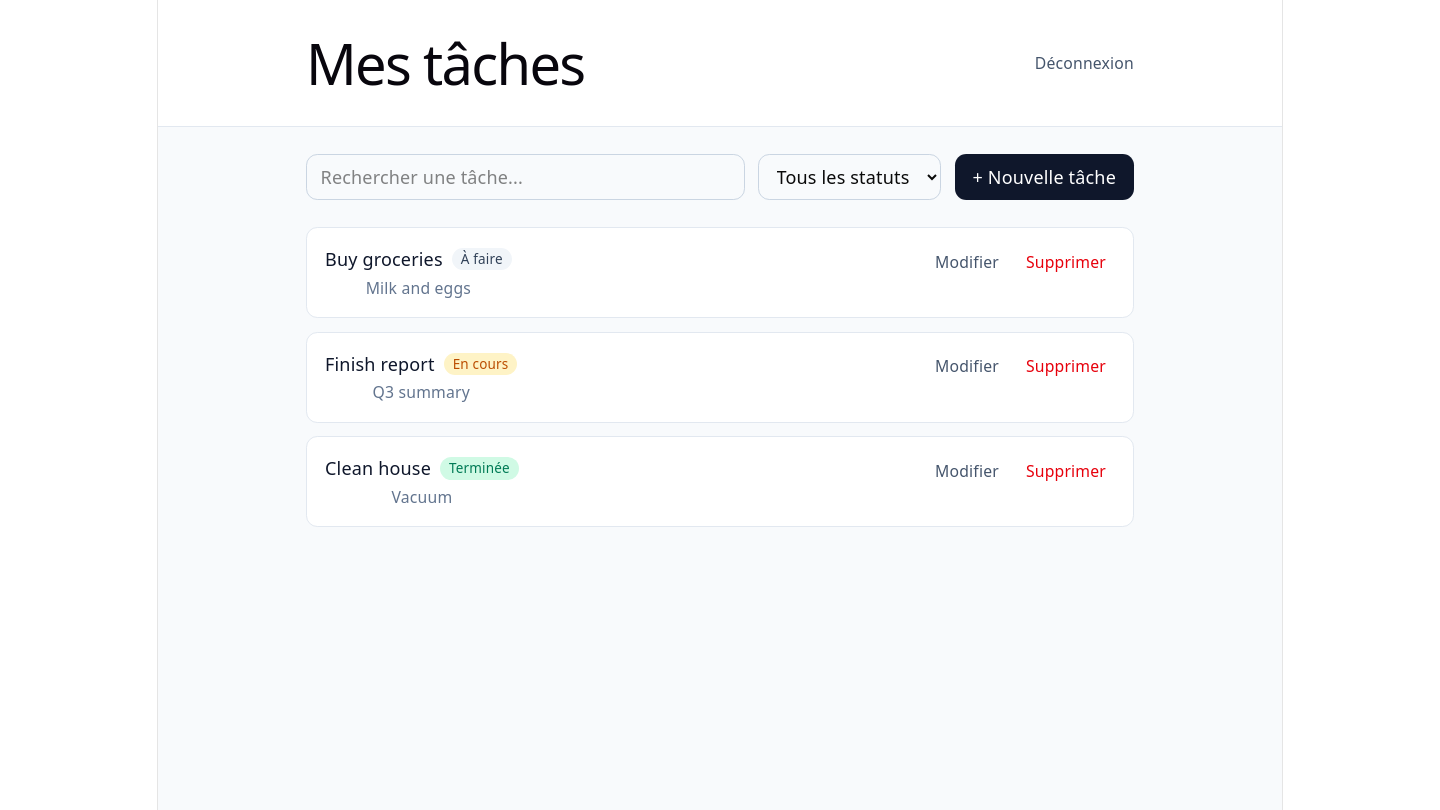
DashboardPage › updates an existing task
Expected: the heading "Buy groceries" is shown, [325, 246, 443, 272]
Click the button "Modifier" in the row of "À faire" at (967, 262), box [926, 246, 1008, 278]
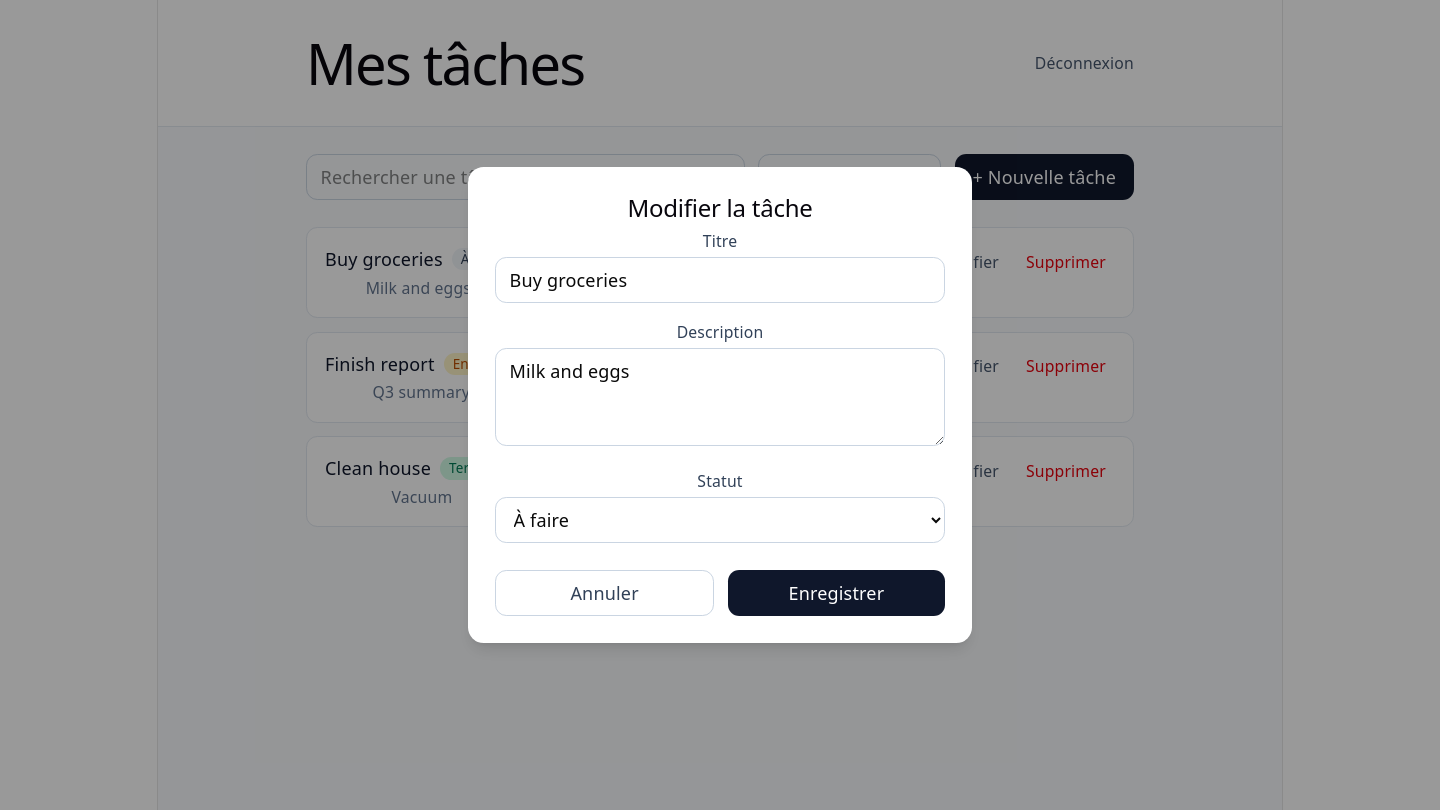
Replace the text in the field labelled "Titre" with "Updated groceries" at (720, 280), box [495, 257, 945, 303]
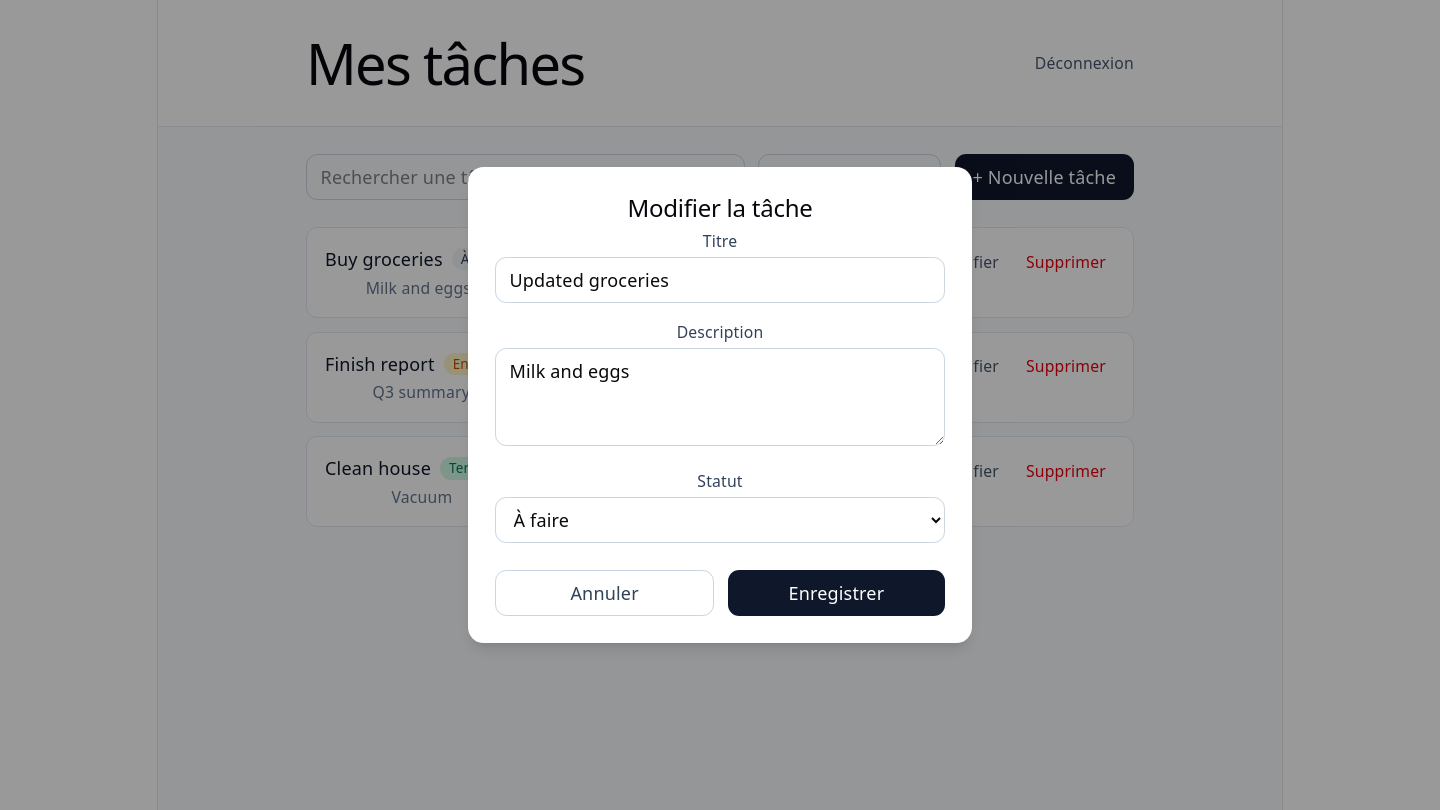
Click the button "Enregistrer" at (836, 593), box [728, 570, 945, 616]
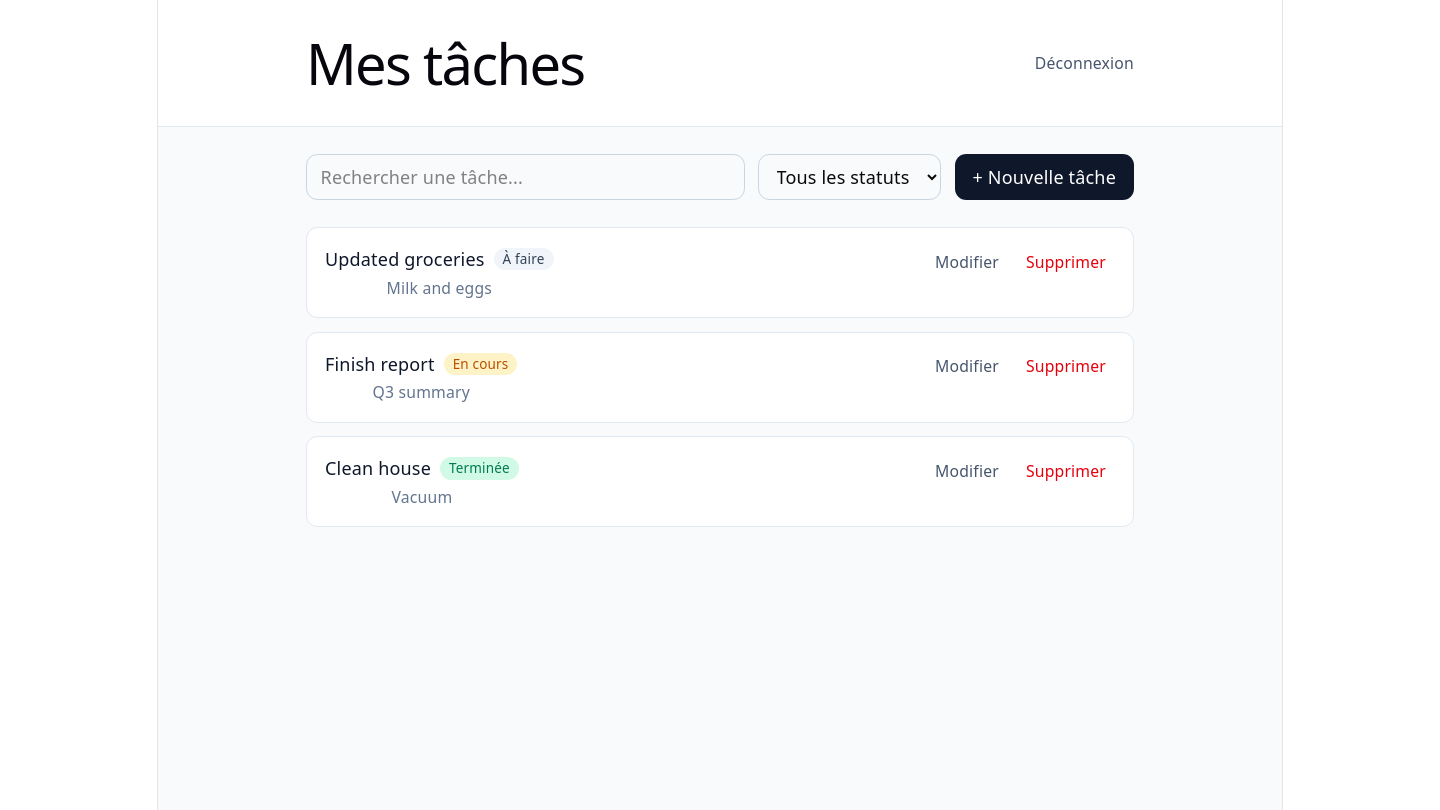
Result: the heading "Updated groceries" is shown at [325, 246, 484, 272]
